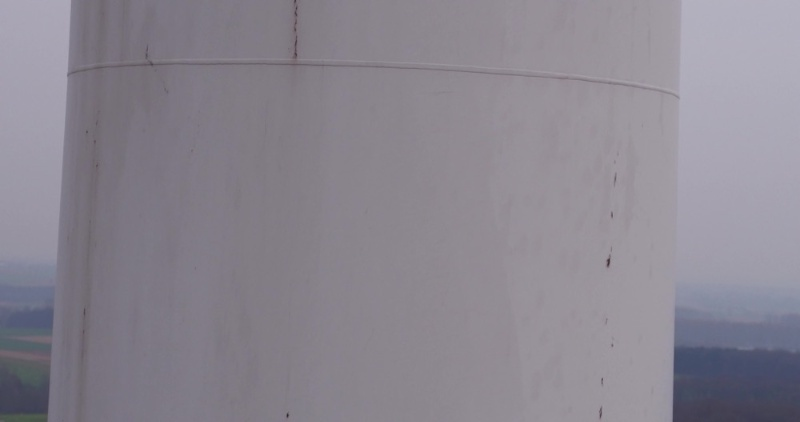weldseam: (49, 47, 685, 110)
